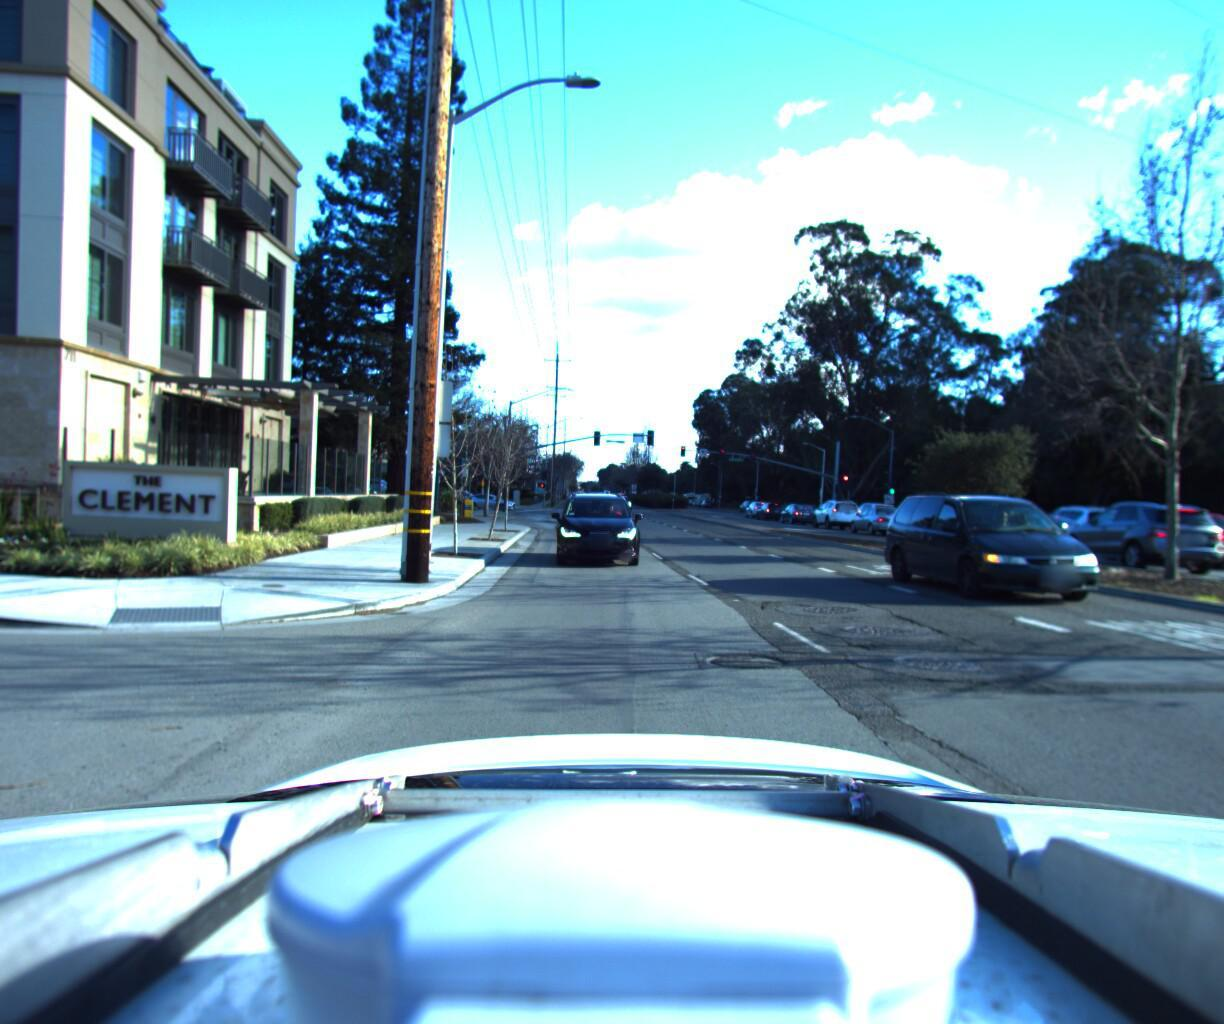car: (909, 482, 1205, 629), (1046, 492, 1224, 574), (1089, 499, 1224, 565), (549, 483, 642, 568), (1020, 495, 1137, 548), (1163, 504, 1224, 573), (844, 497, 918, 532), (809, 491, 866, 524), (844, 493, 902, 525), (778, 494, 822, 519), (754, 492, 789, 514), (744, 492, 776, 513)
